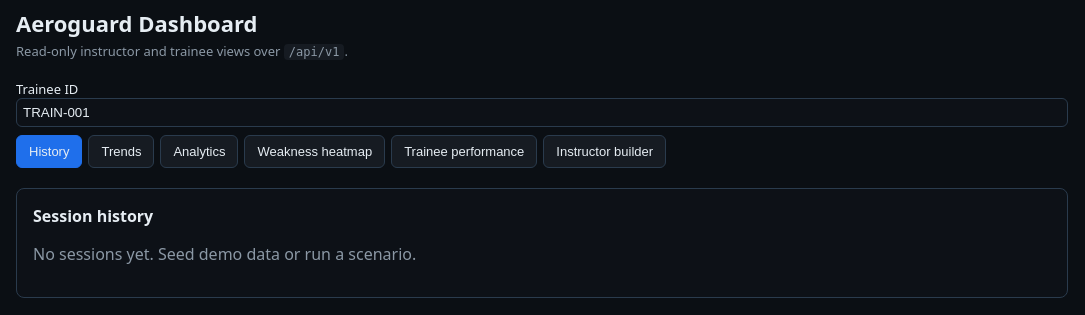
Test: App › switches the active section when a tab is clicked
This screenshot has width=1085, height=315.
Expected: the text "No sessions yet. Seed demo data or run a scenario." is shown, [33,243,416,265]
Click the button "Trends".
click(122, 152)  # box [88,135,154,168]
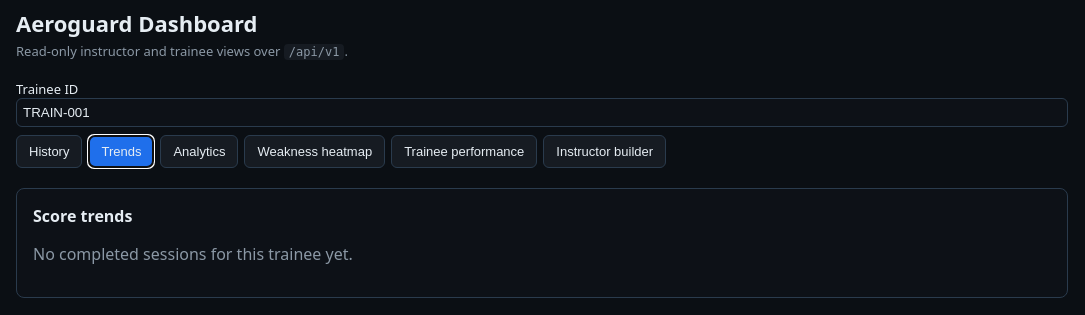
Now the heading "Score trends" is shown, box [33,205,132,227]
Now the heading "Session history" is gone
